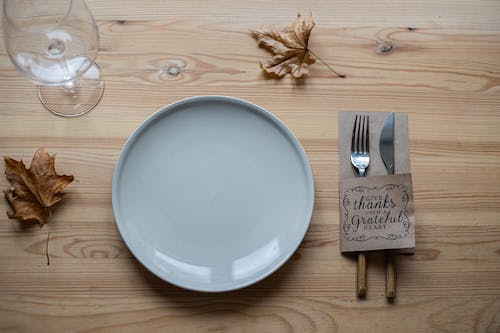knife: (376, 110, 399, 301)
